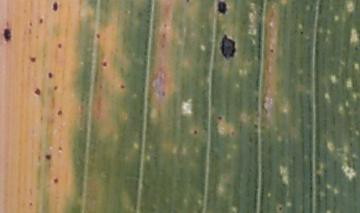tarspot: (221, 34, 236, 61), (216, 1, 228, 16), (2, 26, 12, 43), (51, 1, 59, 13), (27, 54, 37, 63), (34, 88, 42, 96), (57, 143, 63, 153), (101, 60, 108, 68), (95, 33, 102, 41), (192, 128, 199, 136), (38, 16, 44, 25), (217, 113, 223, 122), (45, 154, 52, 161), (52, 177, 59, 184), (268, 47, 275, 54), (298, 29, 305, 36), (47, 71, 53, 79), (119, 82, 125, 90), (278, 205, 284, 213), (52, 85, 59, 91), (57, 43, 63, 49), (57, 110, 63, 116), (28, 201, 34, 207), (185, 1, 191, 4)
